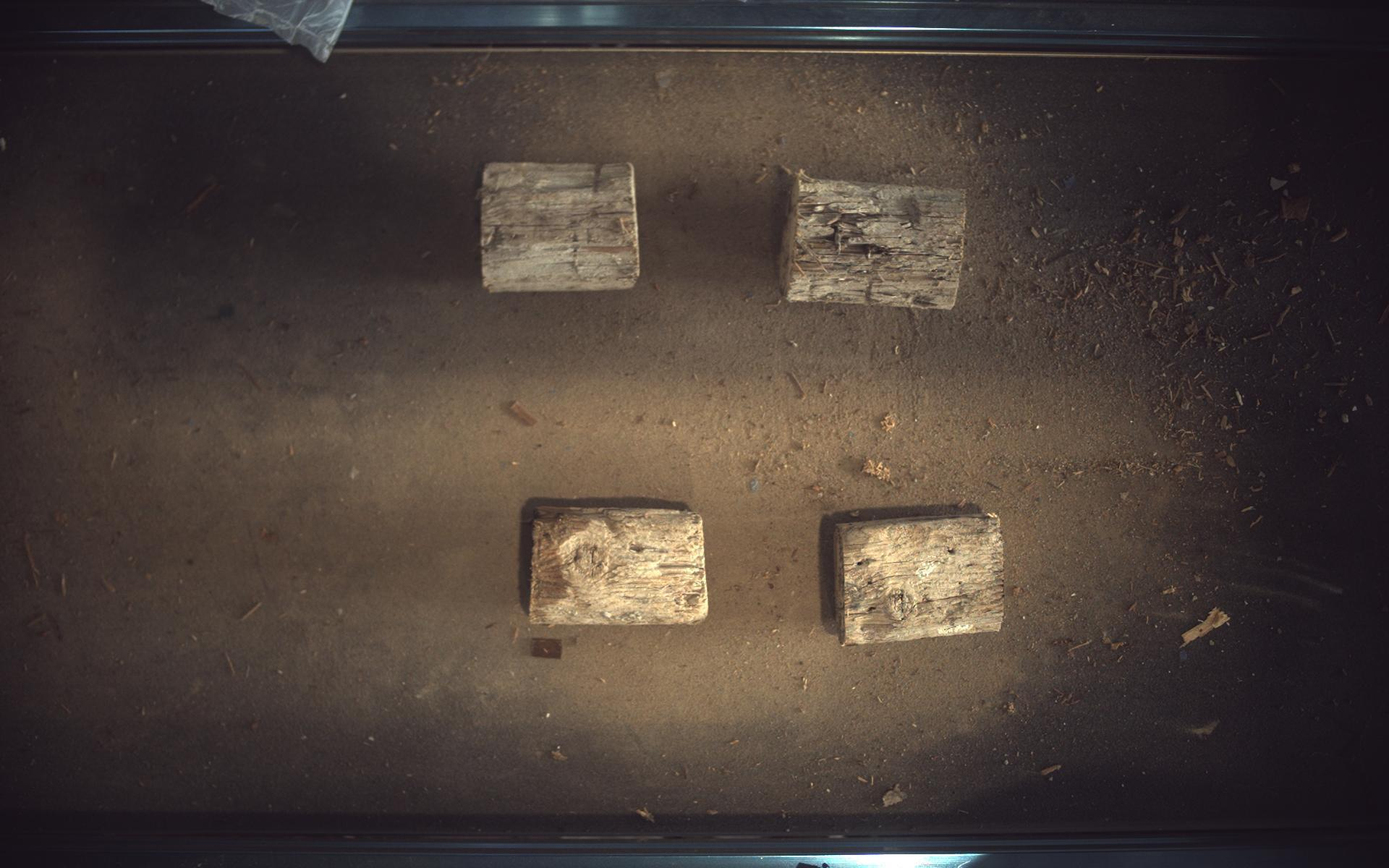wood: (781, 169, 968, 309), (837, 514, 1006, 646), (530, 507, 710, 626), (481, 161, 640, 292)
